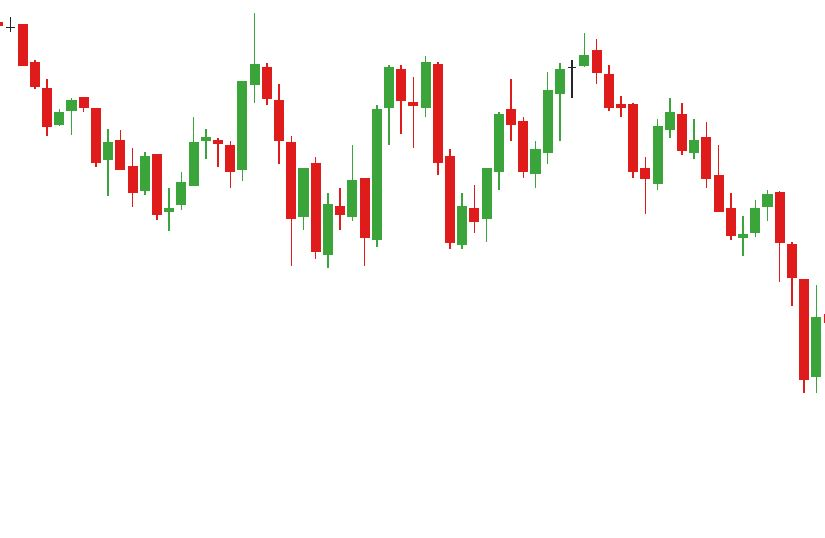sell: (503, 33, 618, 148)
